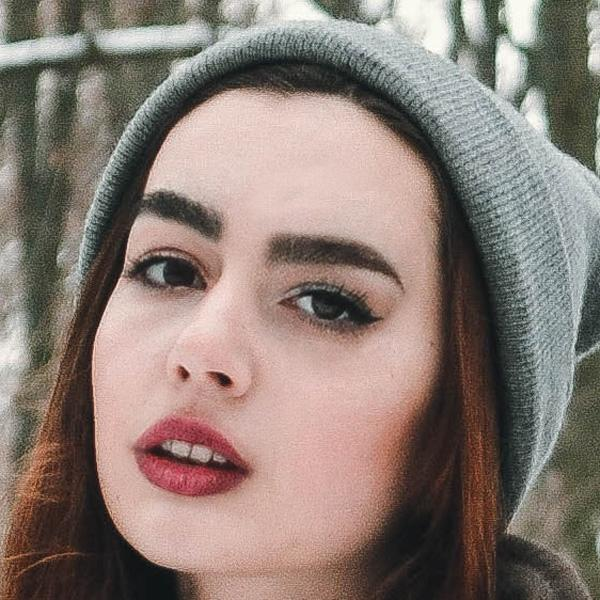Eyes: (272, 276, 381, 347), (120, 238, 216, 301)
